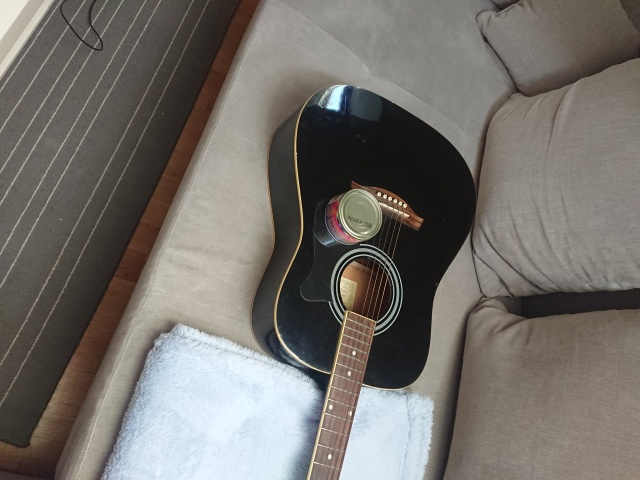Giana Tuna Salad Mexico 185g: (322, 187, 384, 248)
